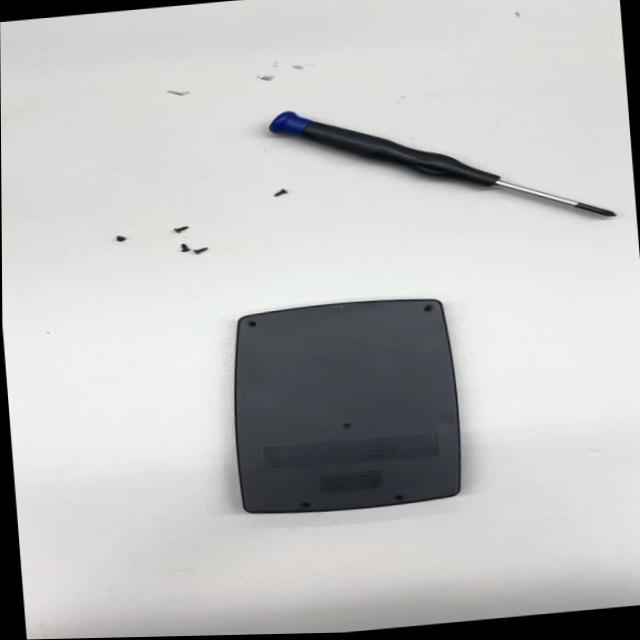back_cover: (213, 289, 474, 523)
screw: (268, 184, 293, 201), (168, 222, 191, 237), (111, 233, 131, 246), (195, 242, 212, 257), (177, 239, 191, 254)
screw_driver: (267, 78, 620, 245)
